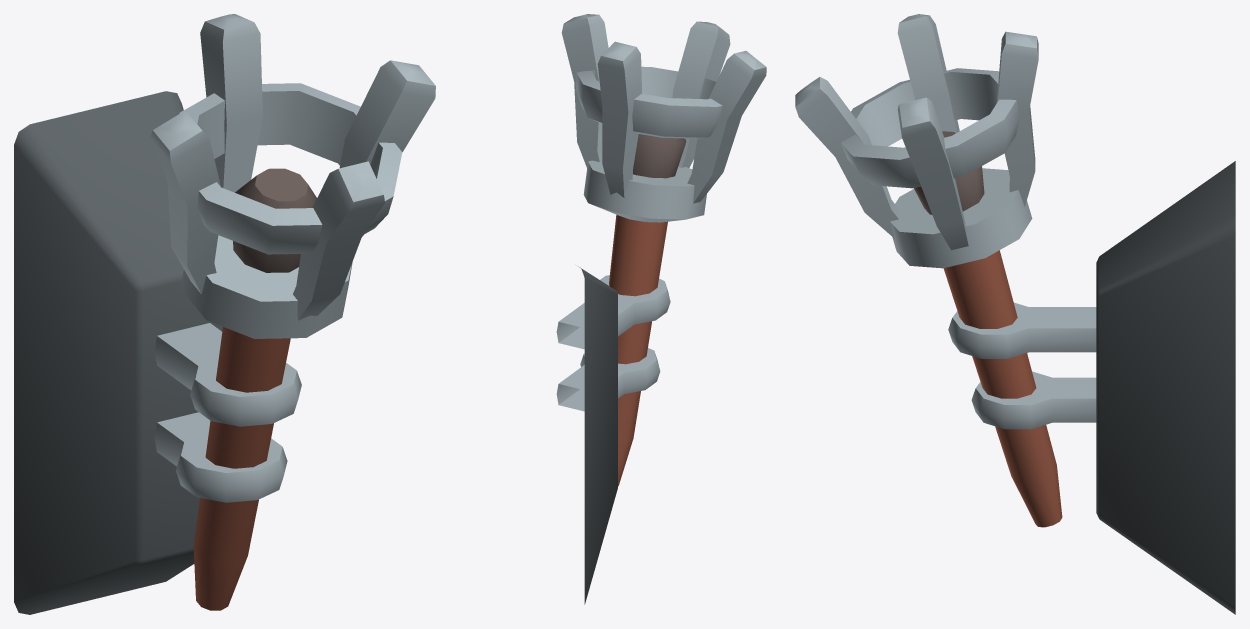
File: kaykit-torchwall.glb
3 views of the same model, side by side, from view 1: azimuth 30°, elevation 25°; view 2: azimuth 150°, elevation 25°; view 3: azimuth 270°, elevation 25° (orthographic). The views are drawn at different scales.
Visible parts, largest first — view 1: torchWall; view 2: torchWall; view 3: torchWall.
Part boxes in pixels (box(x1,y1,x2,y2)): torchWall: box(14, 14, 435, 614); torchWall: box(556, 14, 766, 604); torchWall: box(795, 14, 1235, 614).
Size of the model in its own units: 0.6435 by 1.57 by 1.13.
